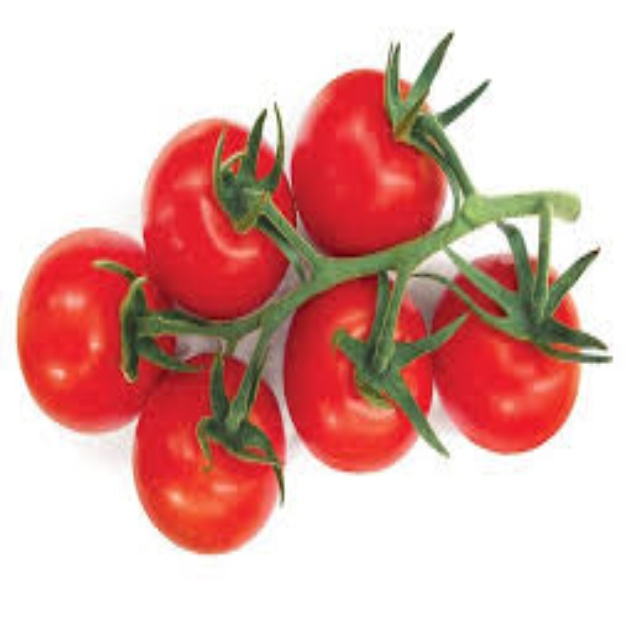tomato: (426, 241, 588, 455), (282, 67, 455, 260), (135, 120, 302, 318), (280, 283, 447, 477), (142, 353, 289, 552), (22, 233, 163, 425)
